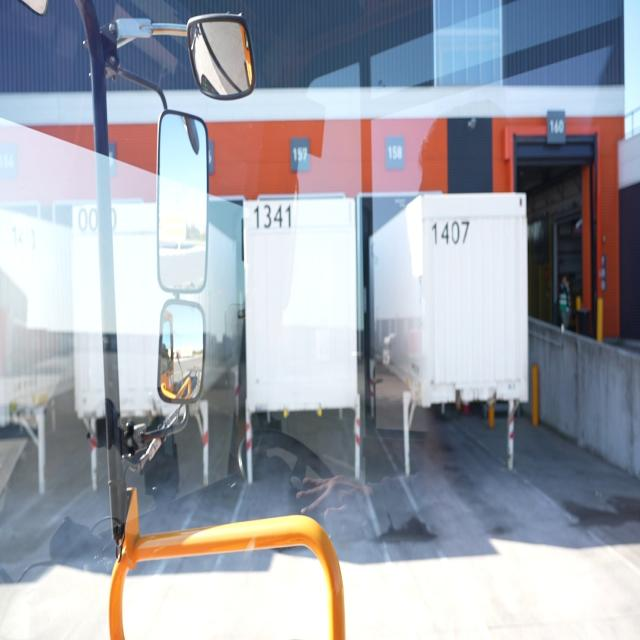Code: (428, 212, 473, 252), (251, 201, 296, 236)
